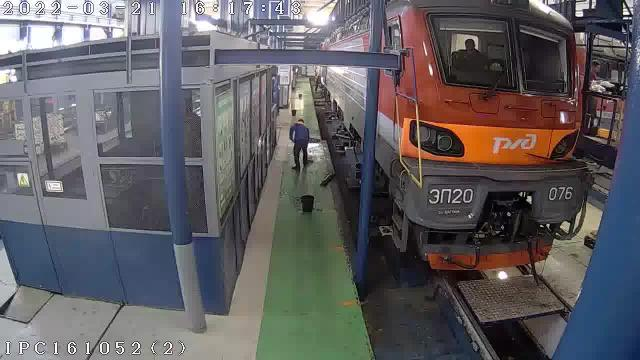person: (289, 119, 310, 170), (462, 39, 487, 70), (588, 96, 599, 135), (590, 60, 600, 81)
train: (376, 0, 591, 269)
